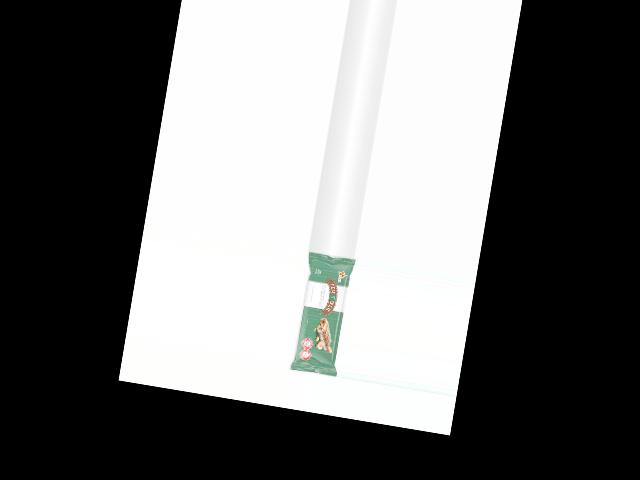chocolate: (287, 249, 355, 377)
